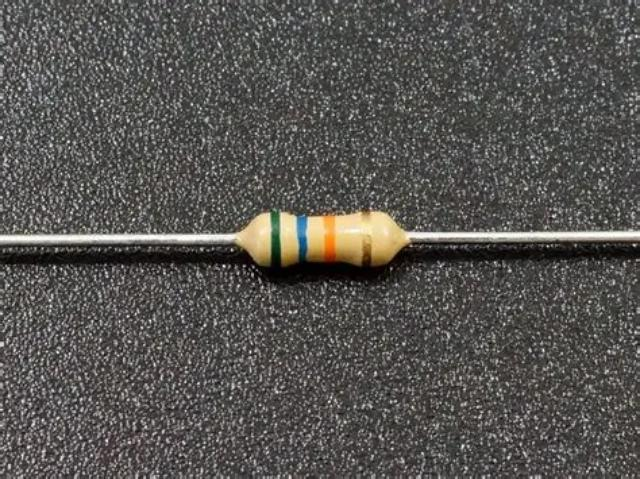blue: (297, 214, 308, 263)
gold: (361, 209, 373, 265)
green: (270, 209, 284, 269)
orange: (323, 214, 337, 263)
resistor: (233, 198, 414, 284)
